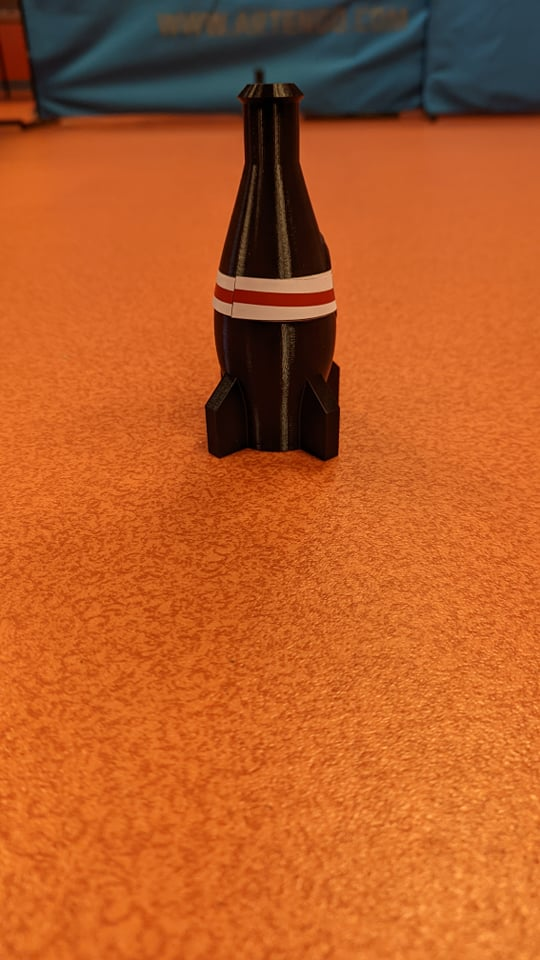bottle: (189, 76, 363, 493)
